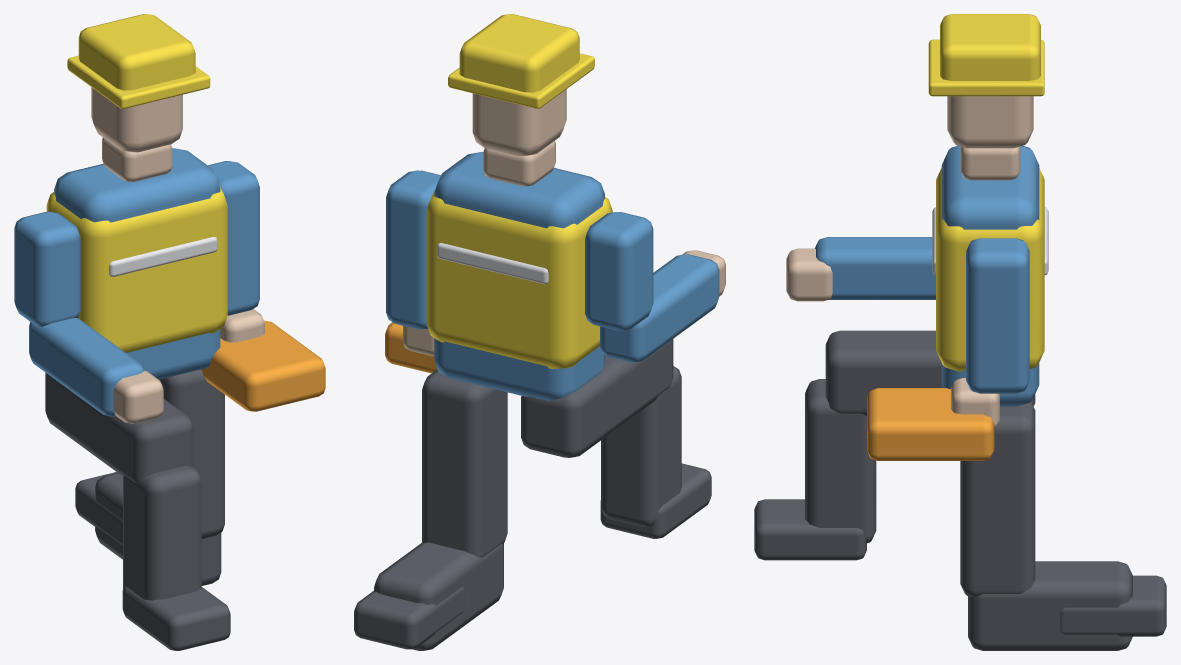
Rendered from maintenance-tech.glb.
3 views of the same model, side by side, from view 1: azimuth 30°, elevation 25°; view 2: azimuth 150°, elevation 25°; view 3: azimuth 270°, elevation 25° (orthographic). The views are drawn at different scales.
Parts seen in each view (by area): view 1: maintenance-technician-kneeling; view 2: maintenance-technician-kneeling; view 3: maintenance-technician-kneeling.
Part boxes in pixels (x1,y1,x2,y2): maintenance-technician-kneeling: (14, 14, 325, 650); maintenance-technician-kneeling: (354, 14, 725, 650); maintenance-technician-kneeling: (754, 14, 1166, 650).
Bounding box in the file's own units: 0.805 × 1.73 × 1.1.
